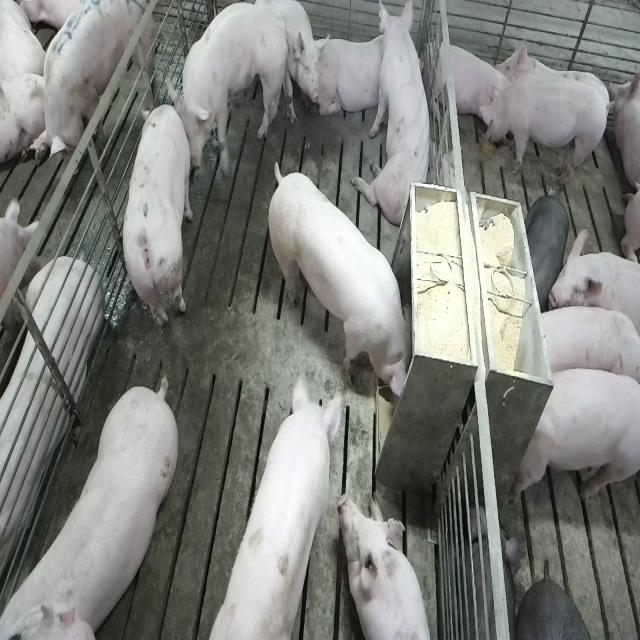Feeding: (192, 379, 346, 640), (271, 162, 421, 410)
Sitting: (356, 5, 436, 234)
Standing: (5, 374, 184, 635), (28, 0, 154, 191), (512, 366, 638, 510), (121, 92, 195, 332), (174, 2, 291, 144), (478, 77, 611, 186), (550, 229, 640, 355), (535, 306, 640, 390)
Sternal_lying: (0, 244, 101, 590), (340, 491, 437, 640), (430, 36, 507, 134), (312, 34, 391, 122)
